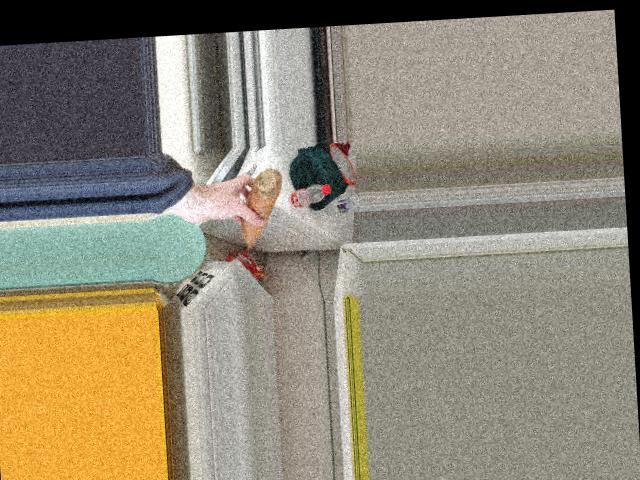sweet_potato: (231, 172, 288, 243)
